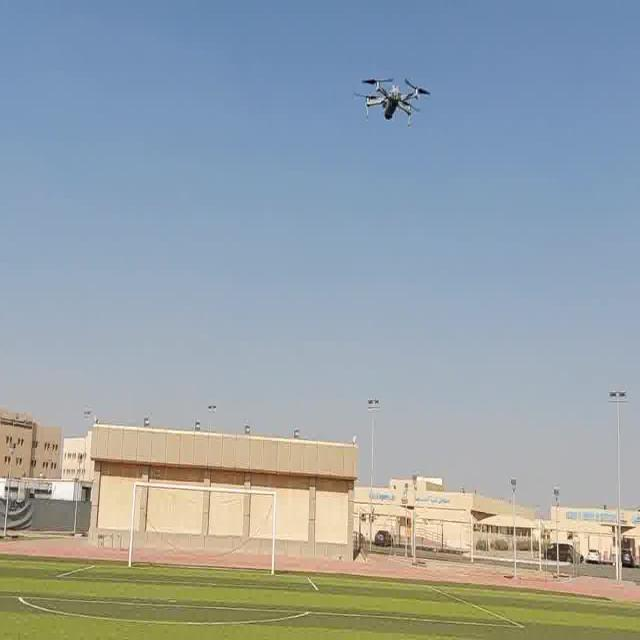drone: (350, 71, 436, 126)
